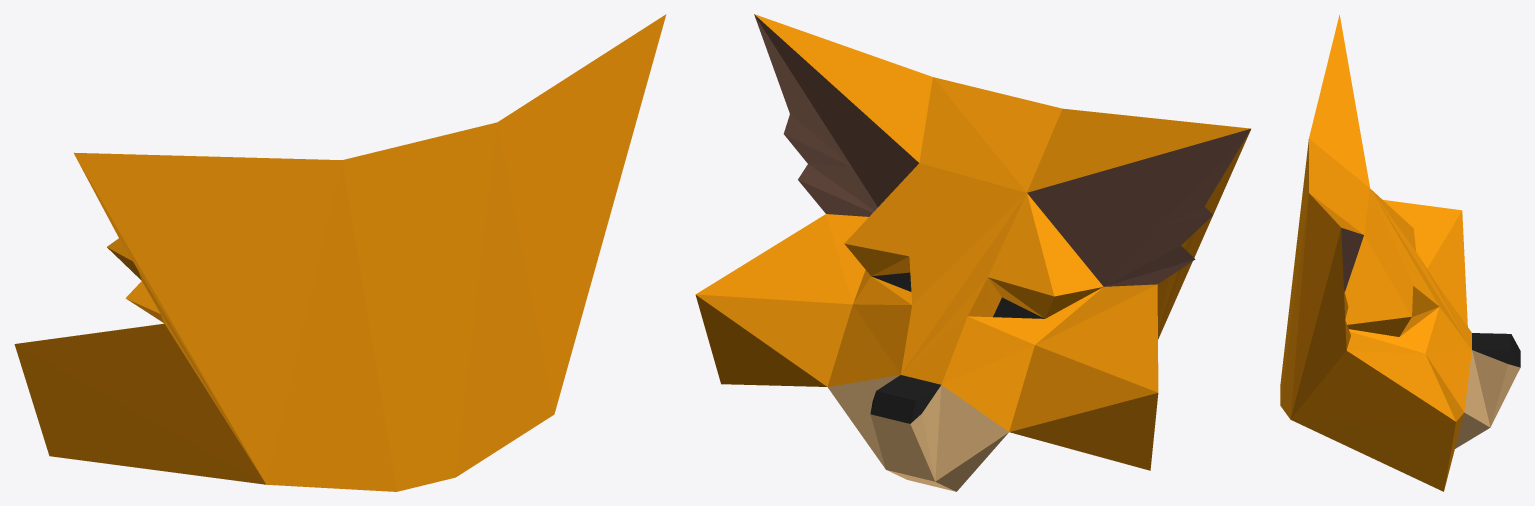
The model's file is fox.glb.
The picture shows the model from 3 angles, left to right: view 1: azimuth 30°, elevation 25°; view 2: azimuth 150°, elevation 25°; view 3: azimuth 270°, elevation 25°; orthographic projection. The views are drawn at different scales.
Parts seen in each view (by area): view 1: group1924176791; view 2: group1924176791; view 3: group1924176791.
Boxes of the visible parts, bbox=[...] form: group1924176791: bbox=[14, 14, 666, 491]; group1924176791: bbox=[695, 14, 1250, 491]; group1924176791: bbox=[1280, 15, 1520, 491].
Bounding box in the file's own units: 0.8046 × 0.5739 × 0.3915.
